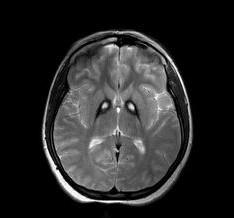Normal_Brain: (1, 2, 234, 218)
